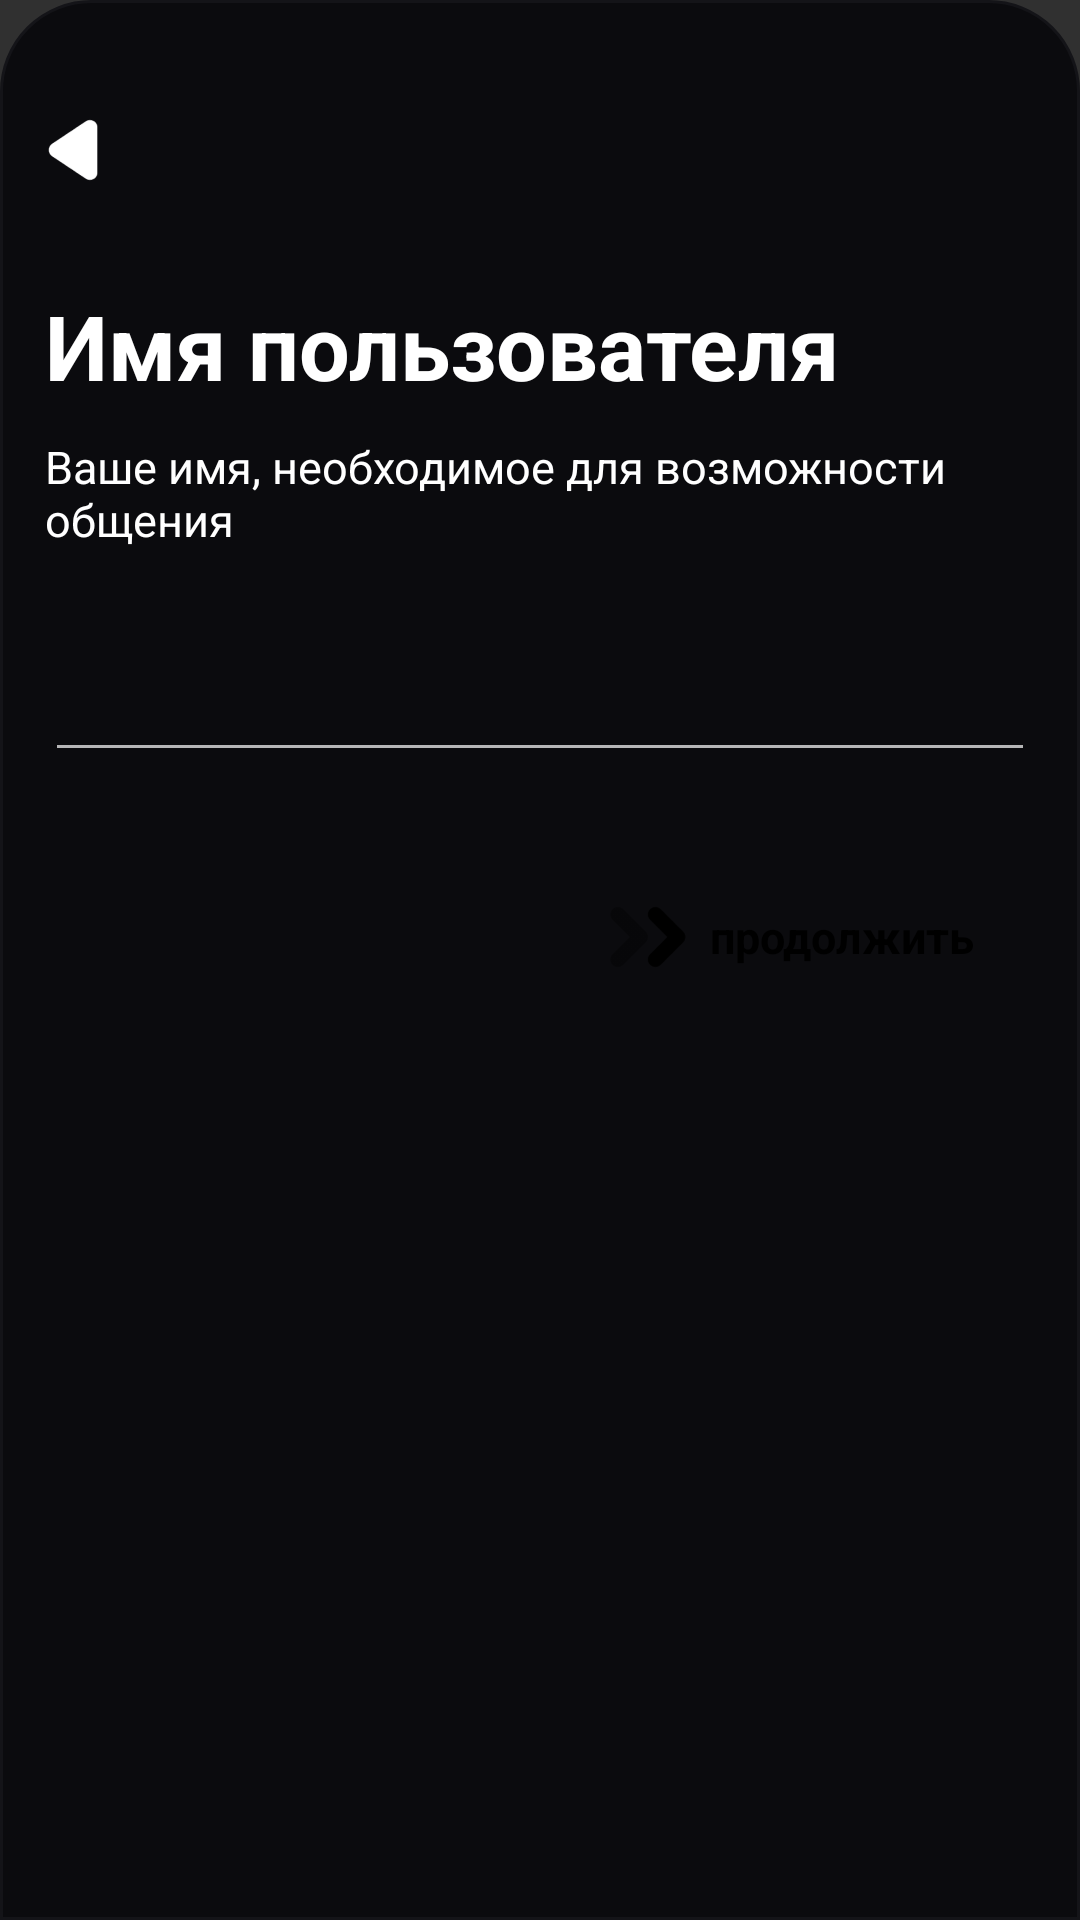

Named icons in this screenshot (1080x1920) and their bounding boxes, (x1, y1, x2, y2):
back: (48, 120, 98, 180)
